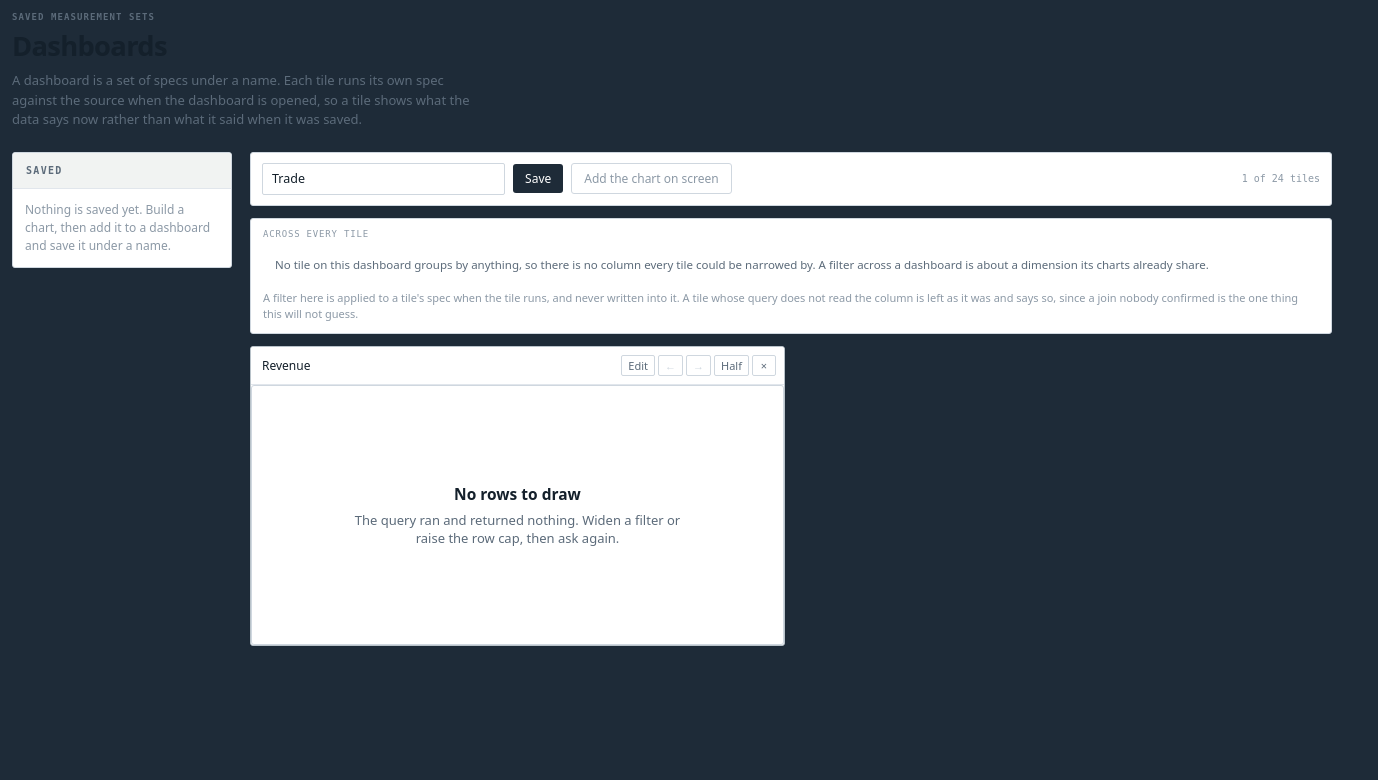
saving a dashboard › says what the store said when it refuses, and keeps the arrangement
The image size is (1378, 780).
Click the button "Save": coordinates (538, 178) [513,164,563,193]
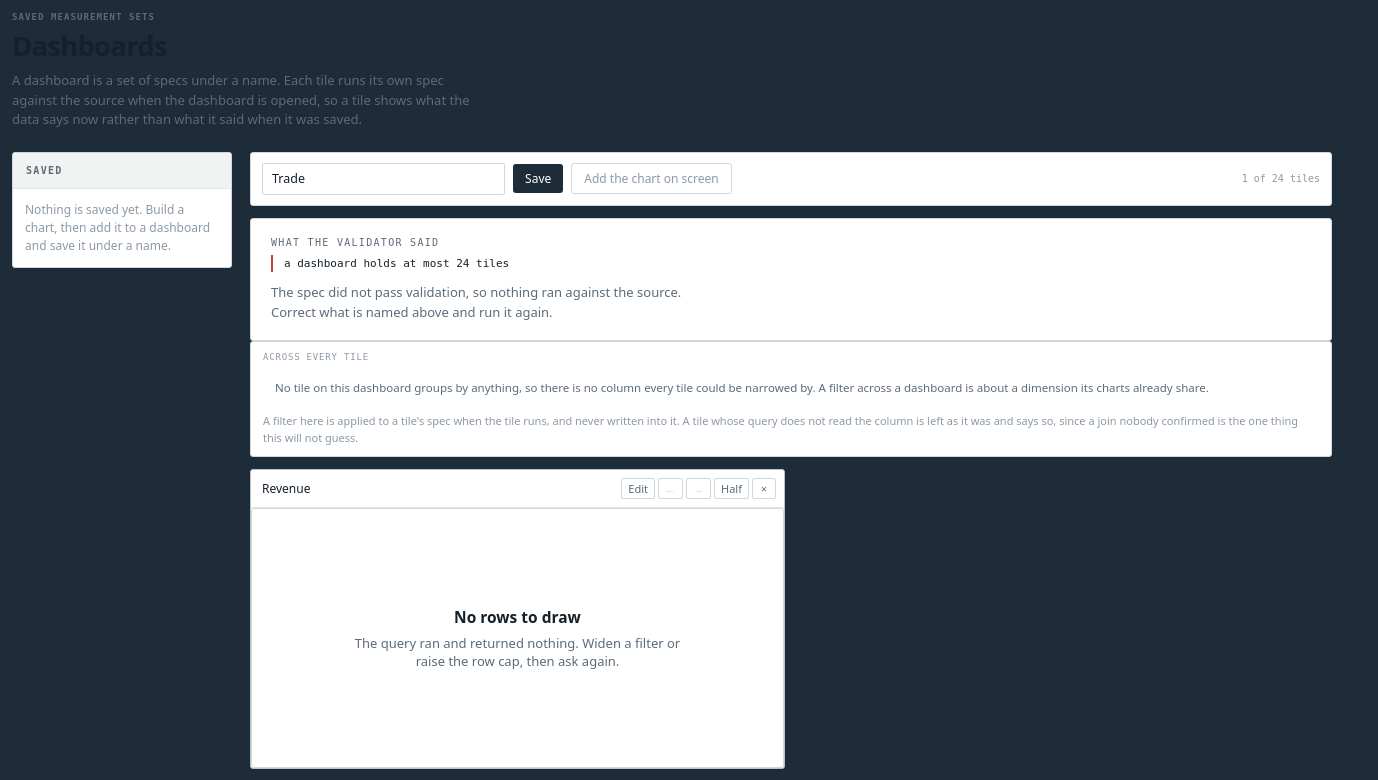
Expected: the list item "a dashboard holds at most 24 tiles" is shown, [271,254,1311,272]
